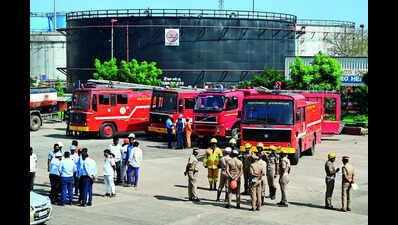Fire-engine: (237, 93, 332, 151), (68, 80, 149, 131)
